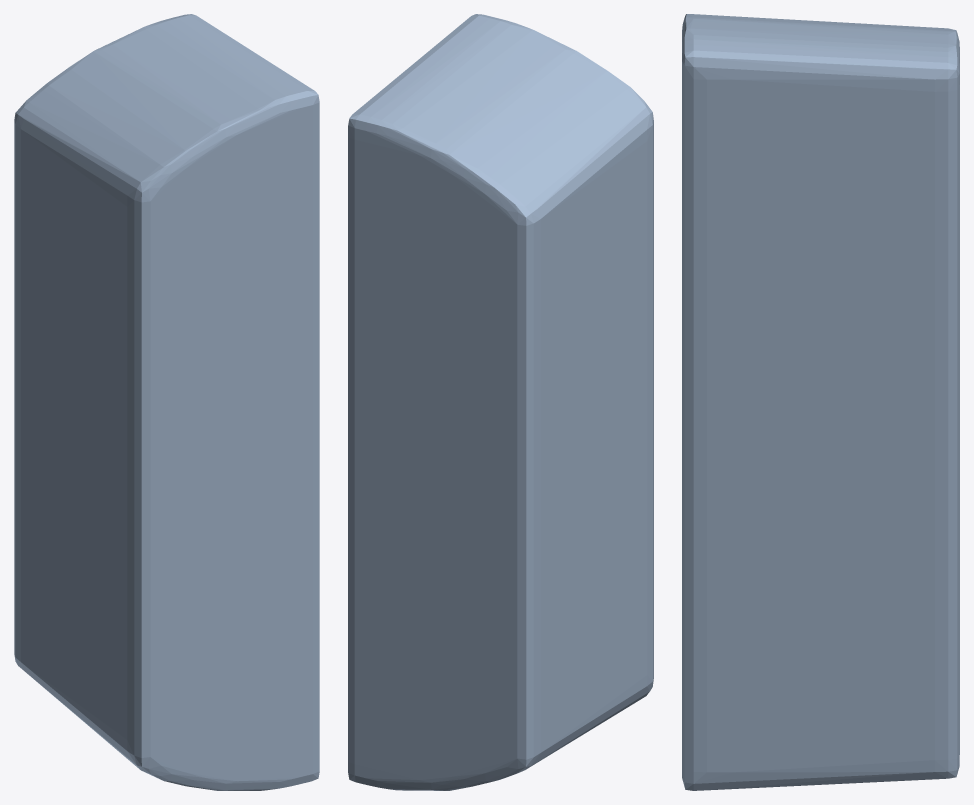
The model's file is right_forearm_collision_part_6.obj.
3 renders of one model, left to right at view 1: azimuth 30°, elevation 25°; view 2: azimuth 150°, elevation 25°; view 3: azimuth 270°, elevation 25°, orthographic. The views are drawn at different scales.
Bounding box in the file's own units: 39.94 × 142 × 48.26.
